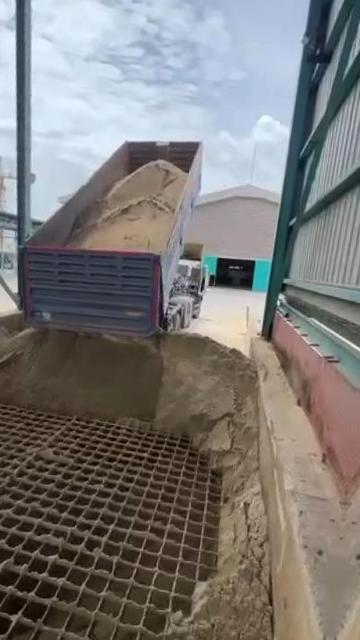sand: (0, 330, 271, 640), (66, 160, 187, 250)
